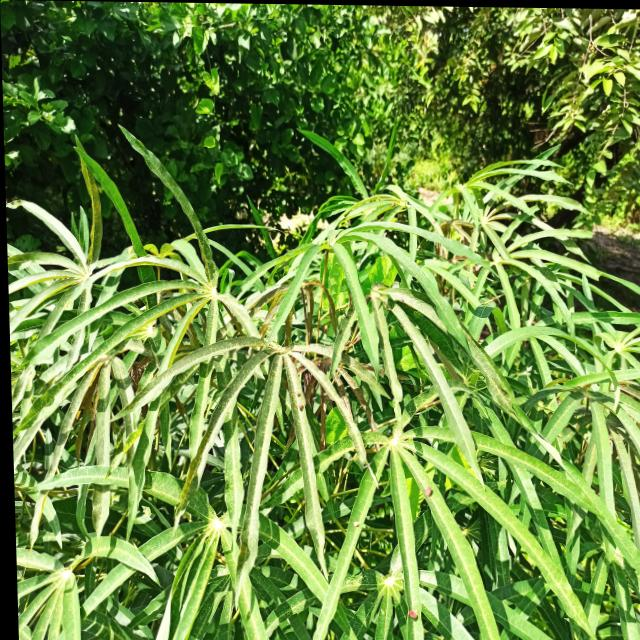Maleza: (23, 0, 316, 177), (307, 0, 632, 156)
Mosca: (614, 372, 635, 395), (404, 602, 423, 627), (294, 388, 307, 420), (422, 479, 439, 500)
